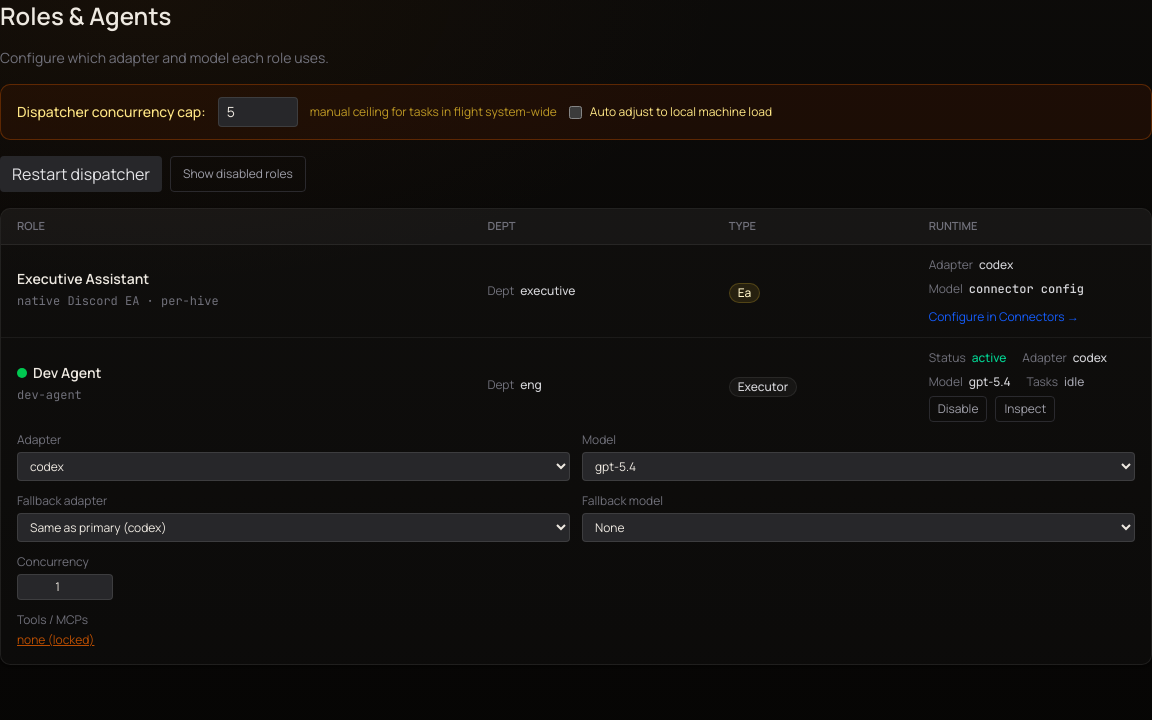
Scenario: RolesPage › renders an explicit no-tools state in the observability panel
Check: the text "Dev Agent" is shown, box 17,363 -> 102,383
Click the button "Inspect".
click(1025, 409)  # box 995,396 -> 1055,422
(page scrolled)
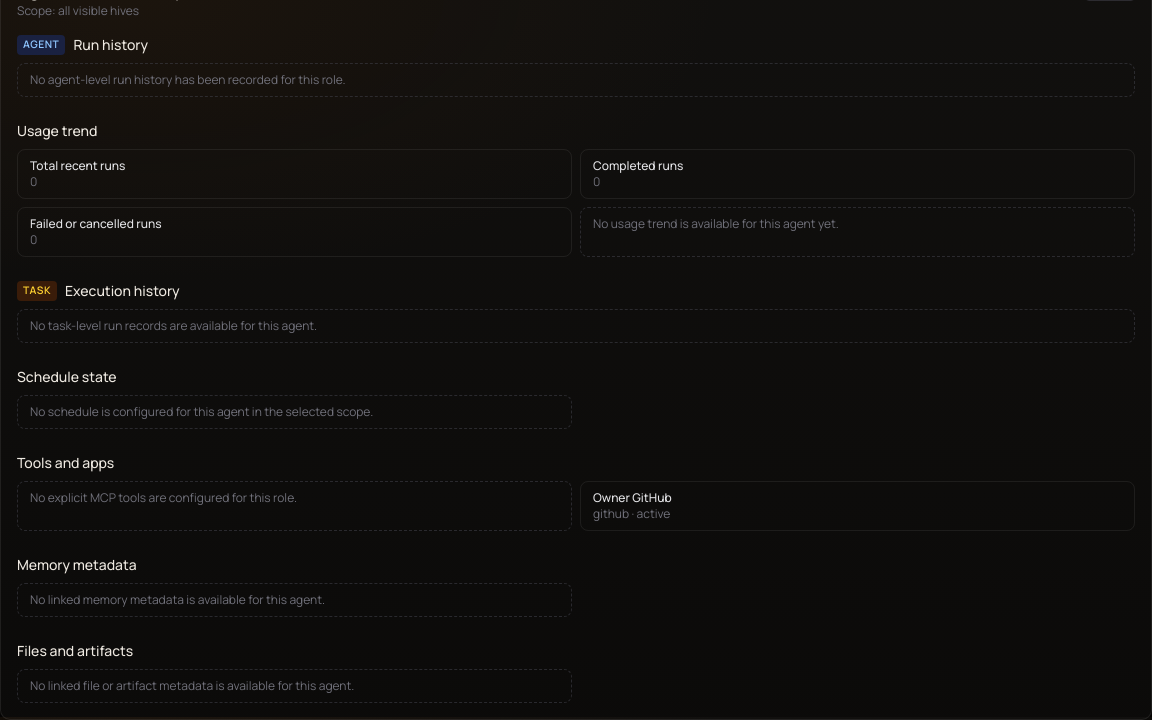
Check: the text "No explicit MCP tools are configured for this role." is shown, box 17,481 -> 572,531
Check: the text "No usage trend is available for this agent yet." is shown, box 580,207 -> 1135,257
Check: the text "Owner GitHub" is shown, box 593,489 -> 672,506
